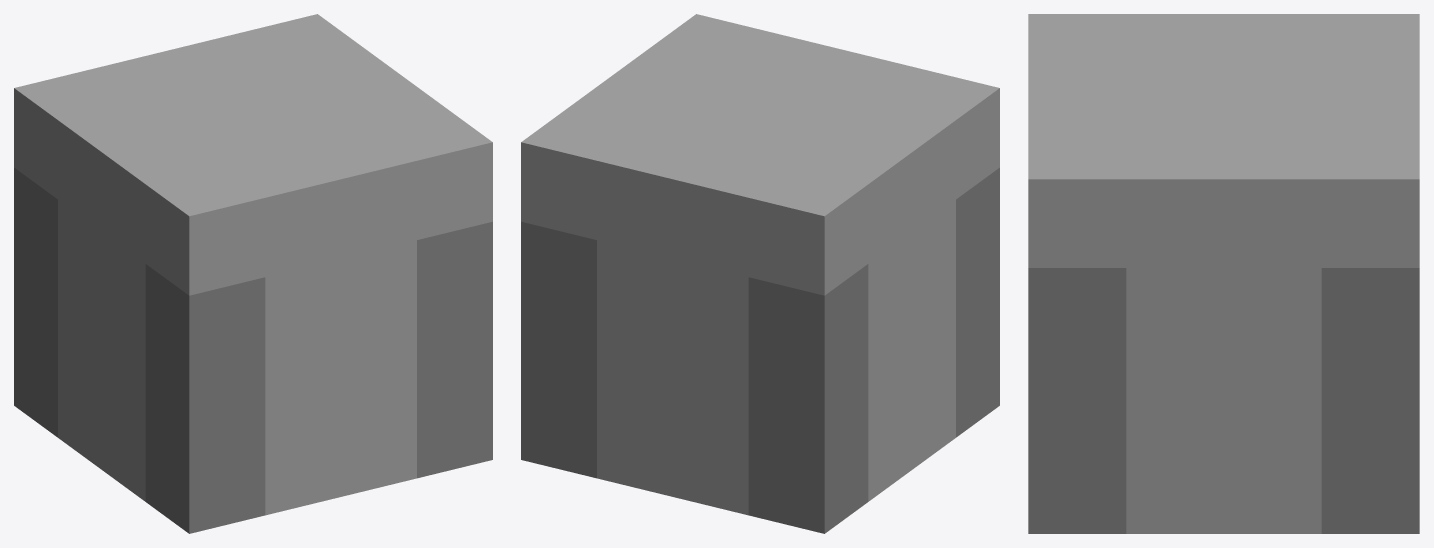
The model's file is towerkit.glb.
3 renders of one model, left to right at view 1: azimuth 30°, elevation 25°; view 2: azimuth 150°, elevation 25°; view 3: azimuth 270°, elevation 25°, orthographic. The views are drawn at different scales.
Parts seen in each view (by area): view 1: Untitled; view 2: Untitled; view 3: Untitled.
Part boxes in pixels (x1,y1,x2,y2): Untitled: (14, 14, 492, 533); Untitled: (521, 14, 999, 533); Untitled: (1028, 14, 1419, 533).
Bounding box in the file's own units: 0.5 × 0.5 × 0.5.
1 material, 1 textured.
